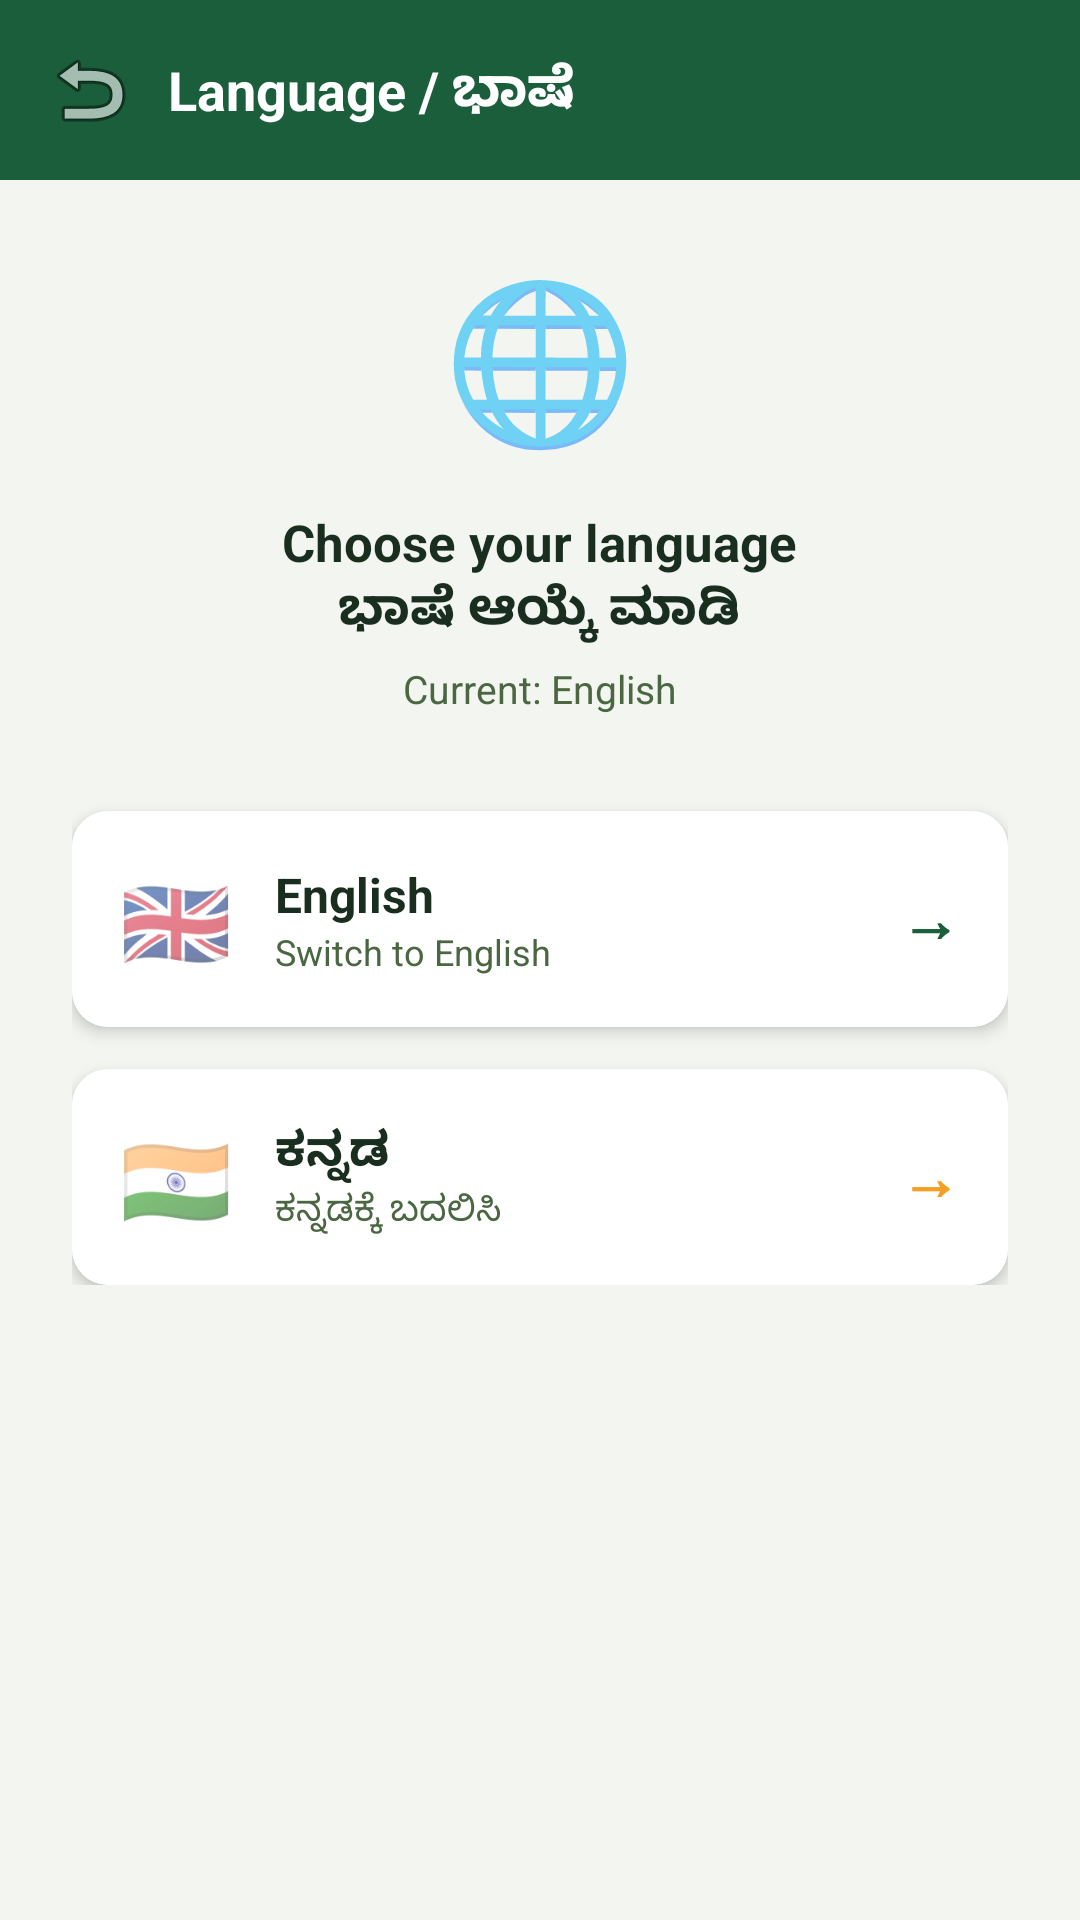

Screen size 1080x1920. Icon name, then its box in pixels as (x1, y1, x2, y2):
revert: (57, 60, 125, 122)
